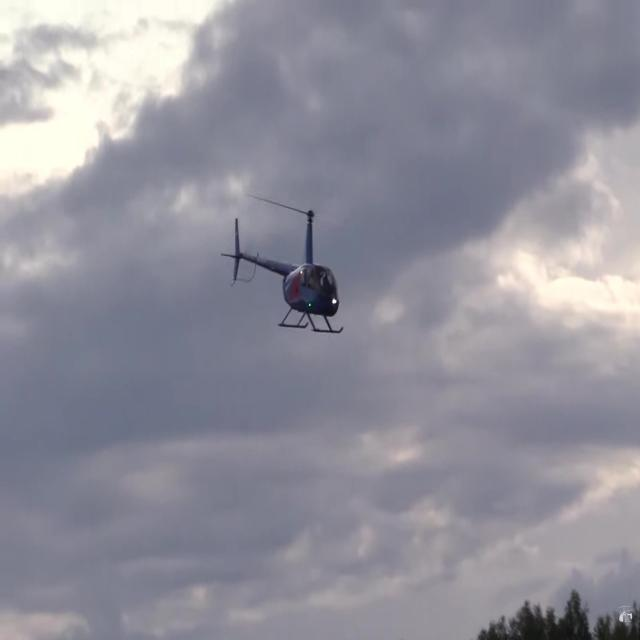CIV_HELO: (221, 207, 345, 337)
